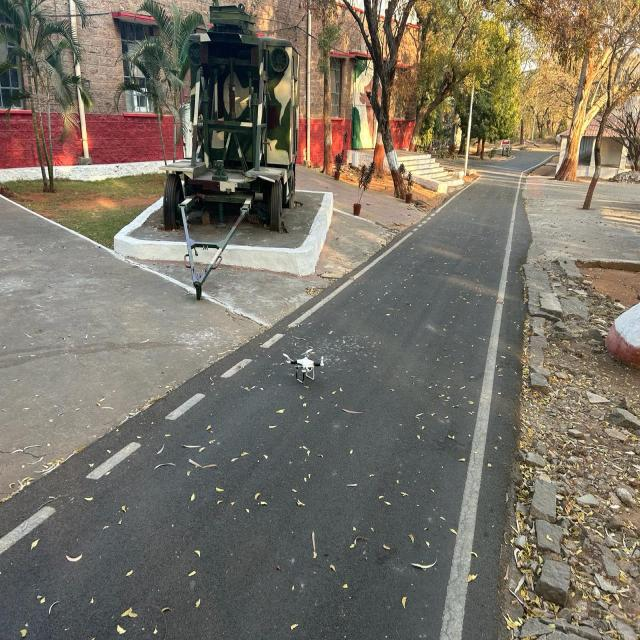drone: (263, 333, 349, 403)
